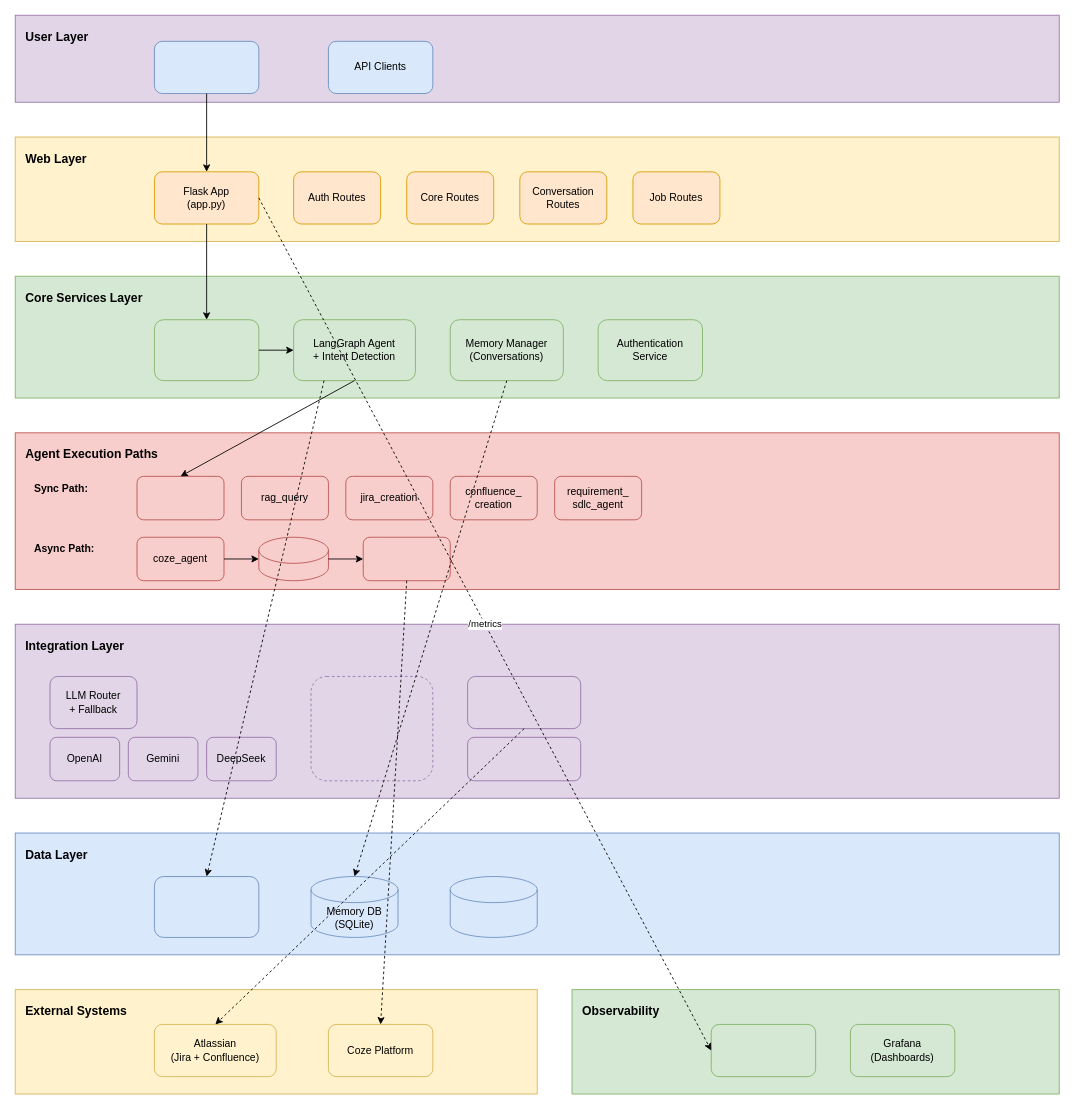
This 1074x1109 diagram has some shape labels left out. The shapes that lost their labels are listed below. From the top down, each one's centre as x and y in pixels, then its label:
the point at 206,67: Web UI (Browser)
the point at 206,350: Chatbot Orchestrator
the point at 180,497: general_chat
the point at 293,558: Redis
the point at 406,558: Celery Worker
the point at 524,702: MCP Integration (Jira/Confluence)
the point at 371,728: AI Gateway (Optional) Cache/Rate Limit/ Circuit Breaker
the point at 524,758: Direct Tools (Fallback)
the point at 206,906: RAG Service Vector Store Embeddings Doc Loader
the point at 493,906: Redis (Broker + Backend)
the point at 763,1050: Prometheus (Metrics)
